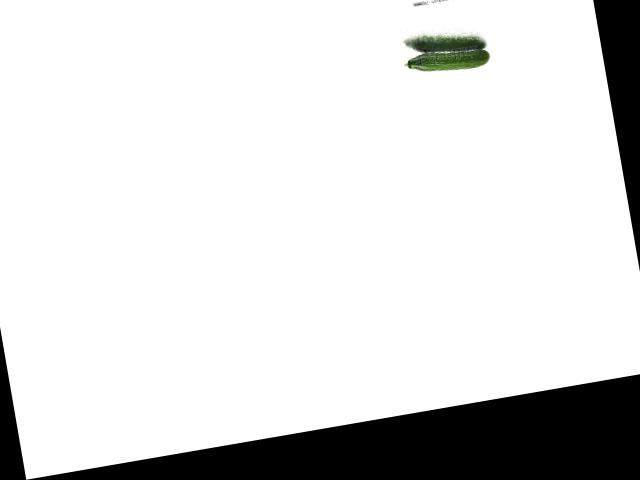cucumber: (402, 42, 490, 79)
